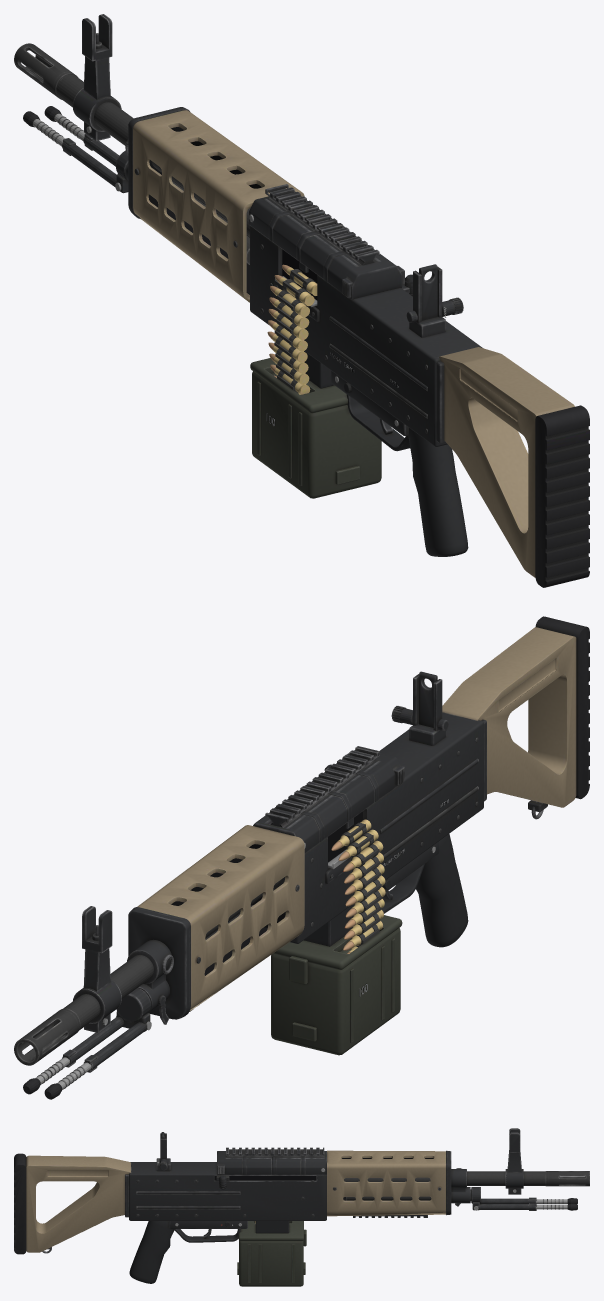
File: mg_built.glb
The picture shows the model from 3 angles, top to bottom: view 1: azimuth 30°, elevation 25°; view 2: azimuth 150°, elevation 25°; view 3: azimuth 270°, elevation 25°; orthographic projection. The views are drawn at different scales.
Visible parts, largest first — view 1: Body, Magazine, Sights; view 2: Body, Magazine, Sights; view 3: Body, Magazine, Sights.
Boxes of the visible parts, <box> form: Body: <box>14,14,589,587</box>; Magazine: <box>250,264,381,498</box>; Sights: <box>406,264,463,337</box>; Body: <box>14,616,589,1099</box>; Magazine: <box>271,819,402,1055</box>; Sights: <box>391,671,448,745</box>; Body: <box>14,1128,589,1283</box>; Magazine: <box>237,1221,306,1286</box>; Sights: <box>156,1132,170,1171</box>.
Size of the model in its own units: 0.0885 by 0.2578 by 0.89.
Materials: 1 (1 with a texture image).
